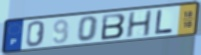0: (25, 20, 47, 49), (77, 15, 99, 43)
9: (52, 18, 72, 45)
B: (100, 13, 127, 41)
H: (125, 9, 154, 39)
L: (154, 9, 175, 36)
